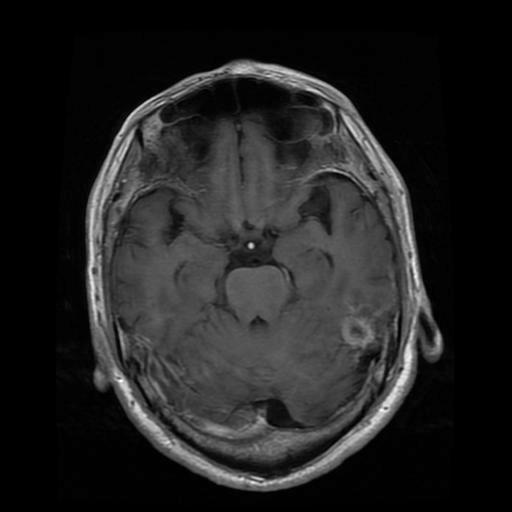Tumour-Glioma: (335, 319, 380, 360)
